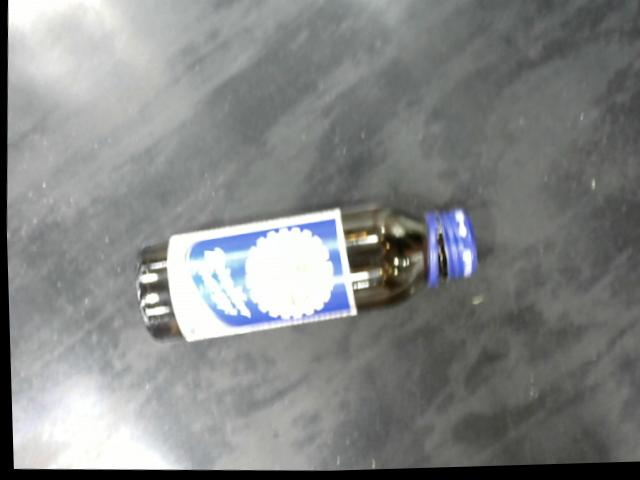glass: (129, 202, 480, 350)
